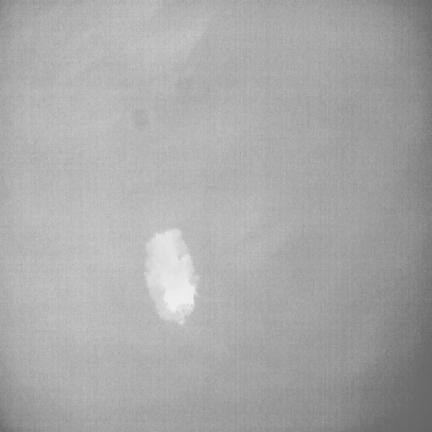flukeprints: (145, 229, 198, 324)
